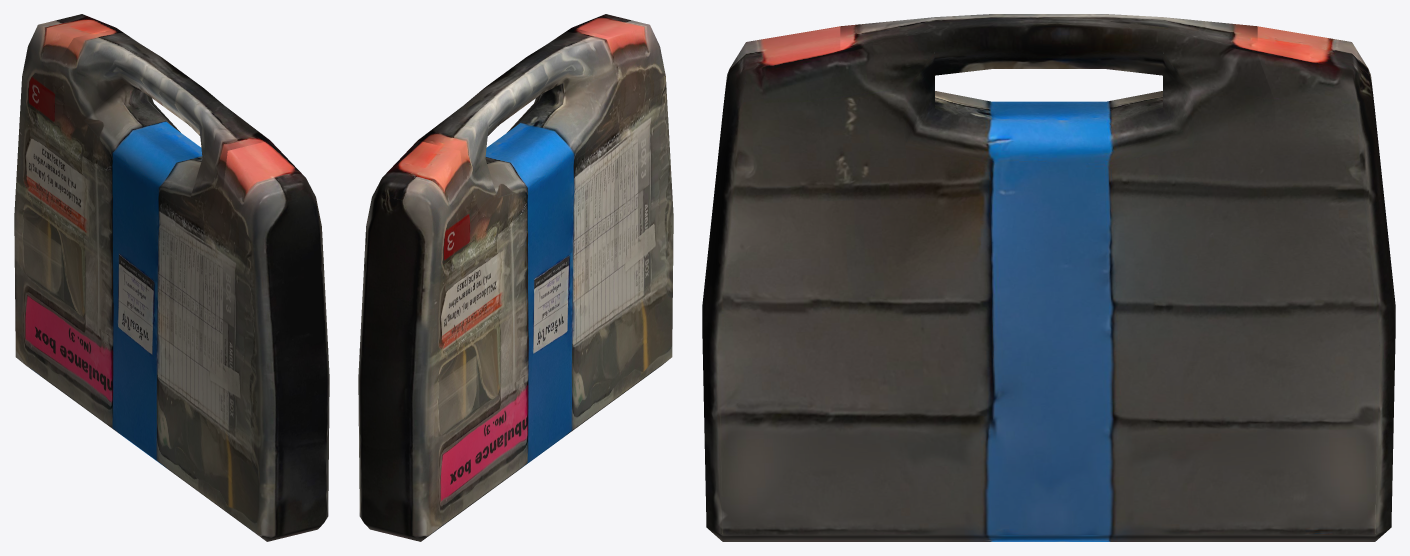
The picture shows the model from 3 angles, left to right: view 1: azimuth 30°, elevation 25°; view 2: azimuth 150°, elevation 25°; view 3: azimuth 270°, elevation 25°; orthographic projection. The views are drawn at different scales.
Parts seen in each view (by area): view 1: TargetMesh; view 2: TargetMesh; view 3: TargetMesh.
Boxes of the visible parts, x1,y1,x2,y2 form: TargetMesh: (14,14,329,541); TargetMesh: (358,14,673,541); TargetMesh: (702,14,1395,541).
Bounding box in the file's own units: 0.1182 × 0.5914 × 0.7364.
1 material, 1 textured.
